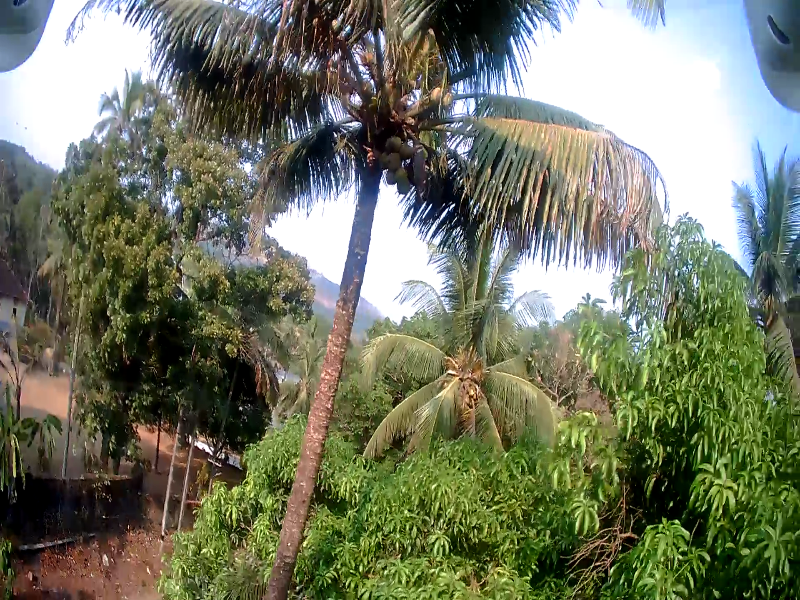coconut: (442, 86, 455, 110), (398, 165, 409, 193), (383, 133, 401, 145), (428, 89, 441, 101), (388, 156, 401, 167), (384, 172, 393, 182)
